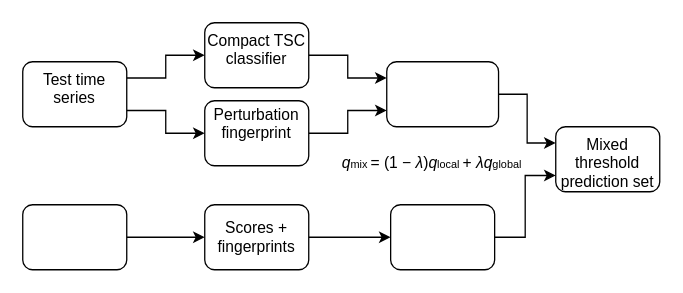
The diagram is 683 pixels wide and 293 high, and some of its shapes have lost their labels. Here are the shapes that lost their labels. From the top down, the box of each, then its label:
(385, 60, 499, 127): Local weighted threshold
(21, 203, 127, 270): Augmented calibration set
(389, 203, 495, 270): Global augmented threshold
